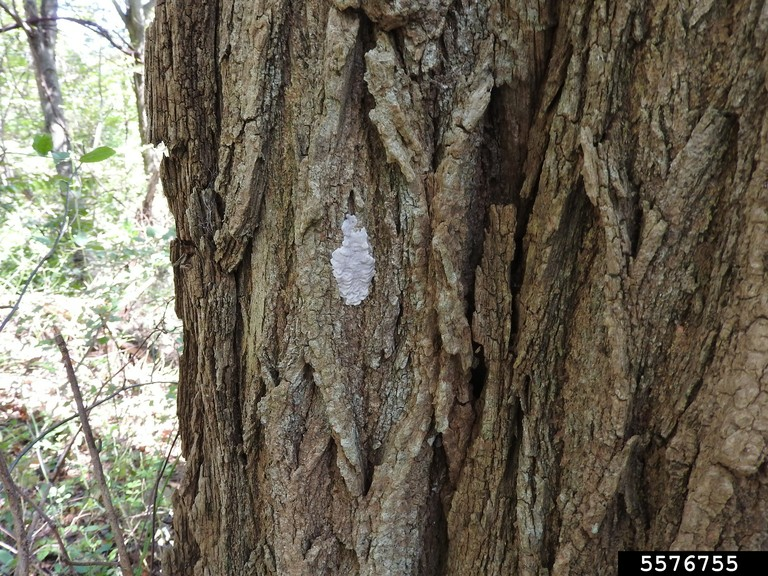egg masses: (310, 177, 383, 309)
